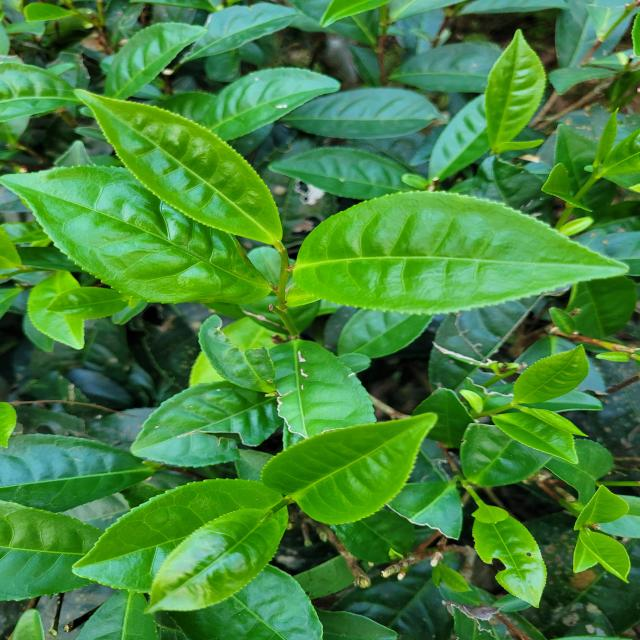Catagory A(1-2 days): (59, 81, 305, 254)
